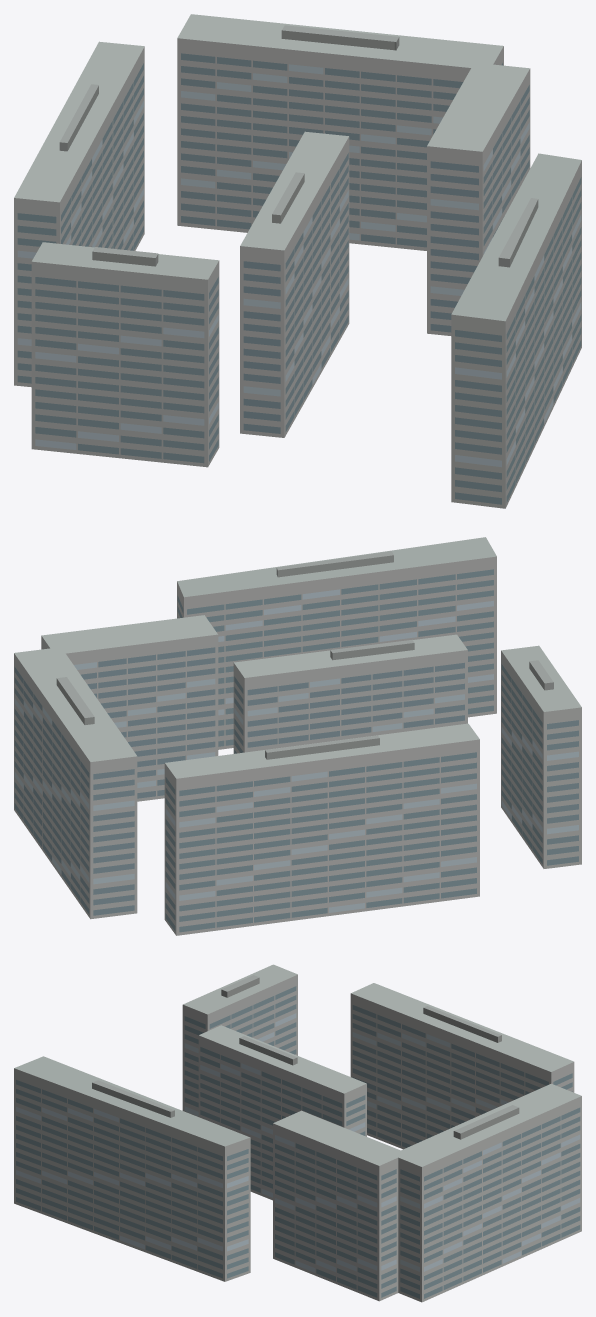
The model's file is apt-a13981407.glb.
3 renders of one model, top to bottom at view 1: azimuth 30°, elevation 25°; view 2: azimuth 150°, elevation 25°; view 3: azimuth 270°, elevation 25°, orthographic. The views are drawn at different scales.
Visible parts, largest first — view 1: apt-a13981407; view 2: apt-a13981407; view 3: apt-a13981407.
Boxes of the visible parts, x1,y1,x2,y2 form: apt-a13981407: (14, 14, 581, 508); apt-a13981407: (14, 537, 581, 935); apt-a13981407: (14, 964, 581, 1302).
Bounding box in the file's own units: 147 × 47.81 × 174.
